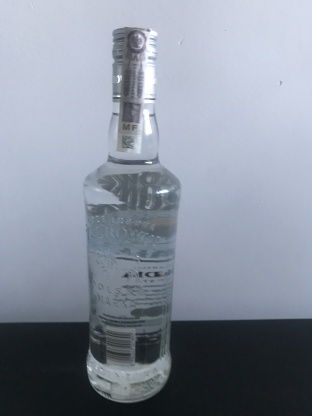nakretka: (109, 22, 161, 107)
